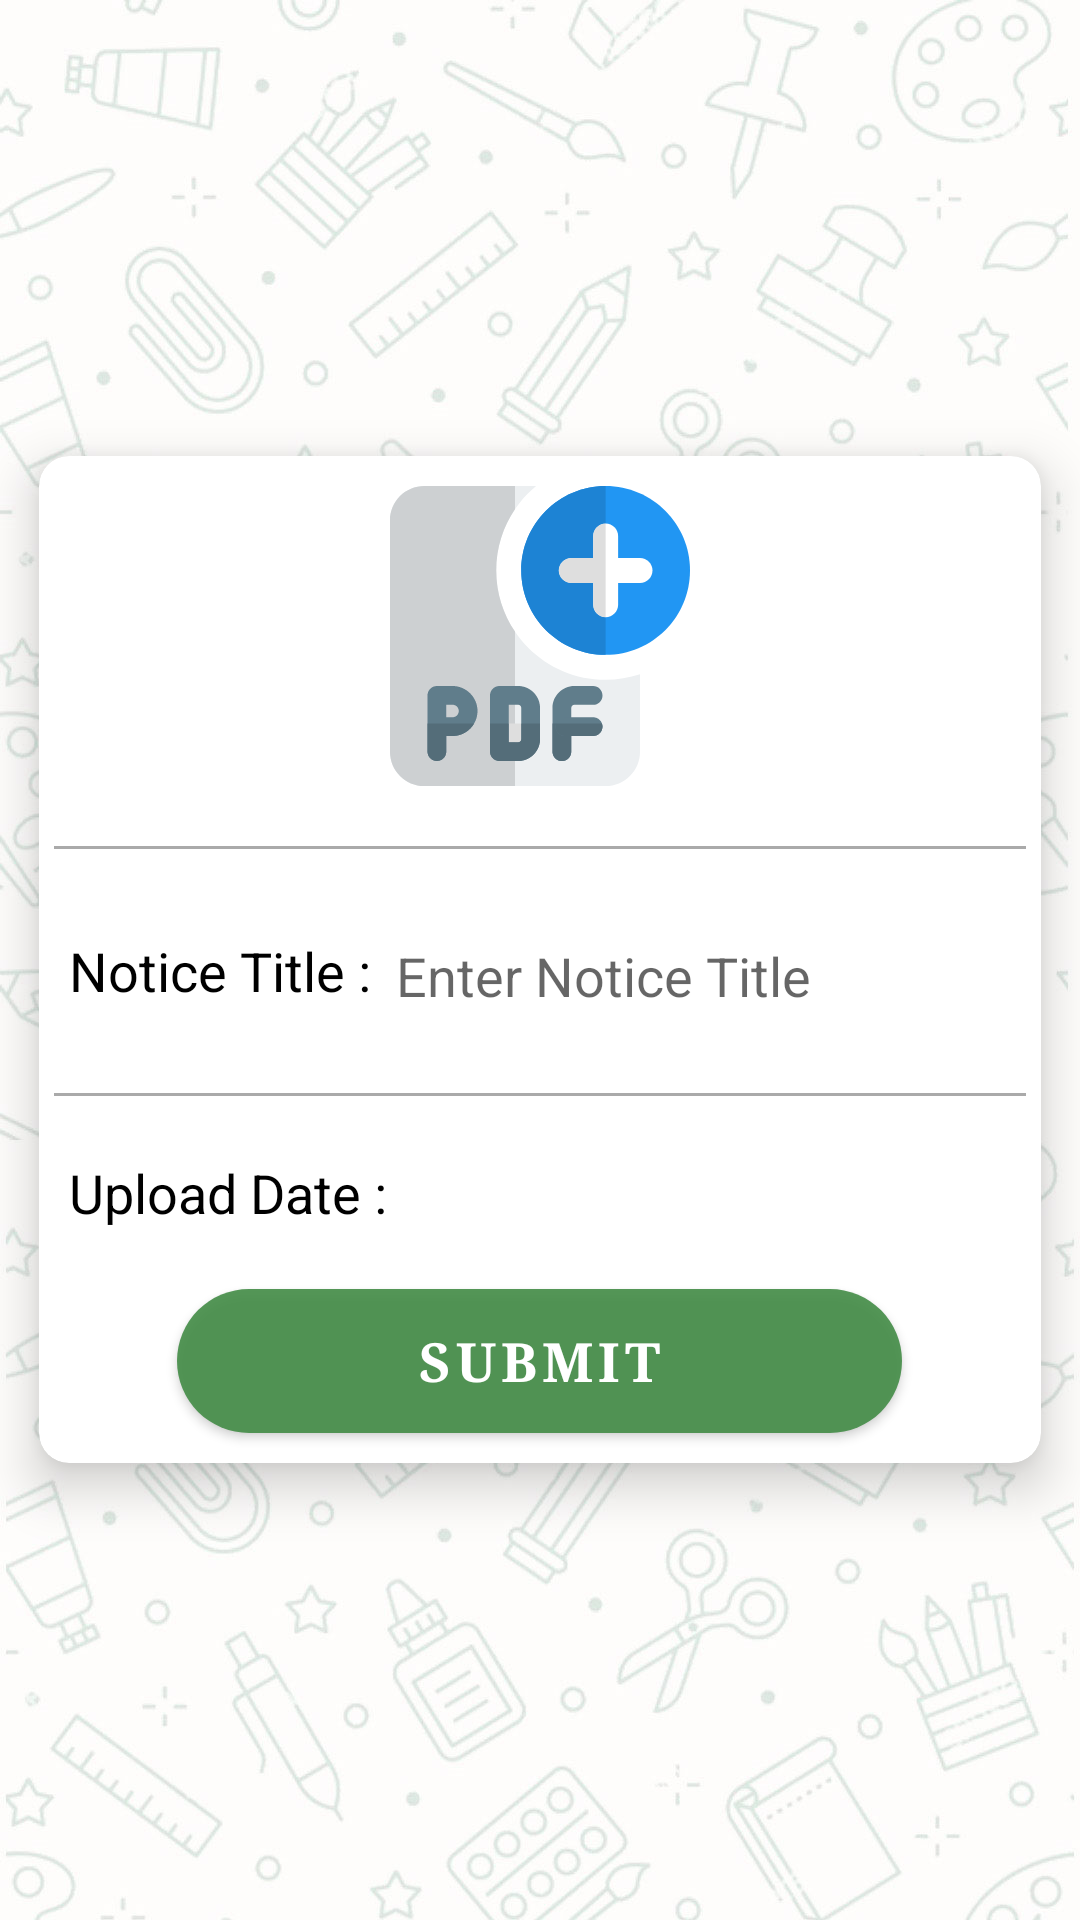

Named icons in this screenshot (1080px×1920px) and their bounding boxes, (x1, y1, x2, y2):
add pdf: (390, 486, 690, 786)
